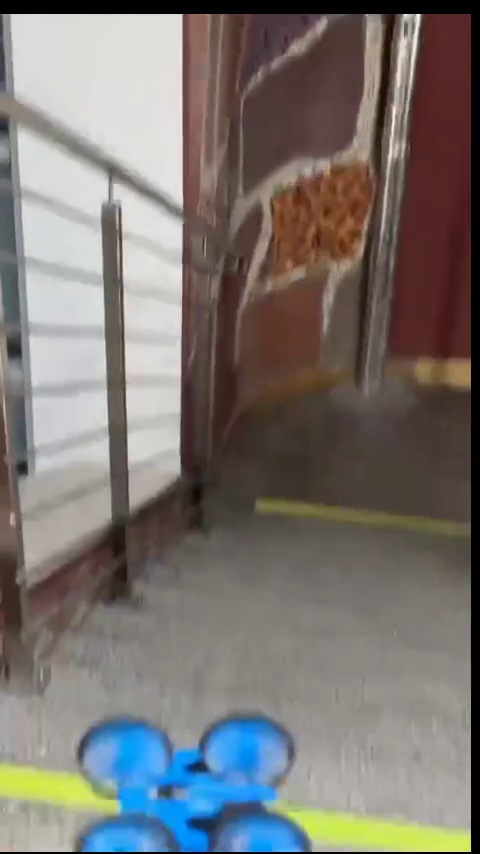drone: (80, 716, 310, 848)
